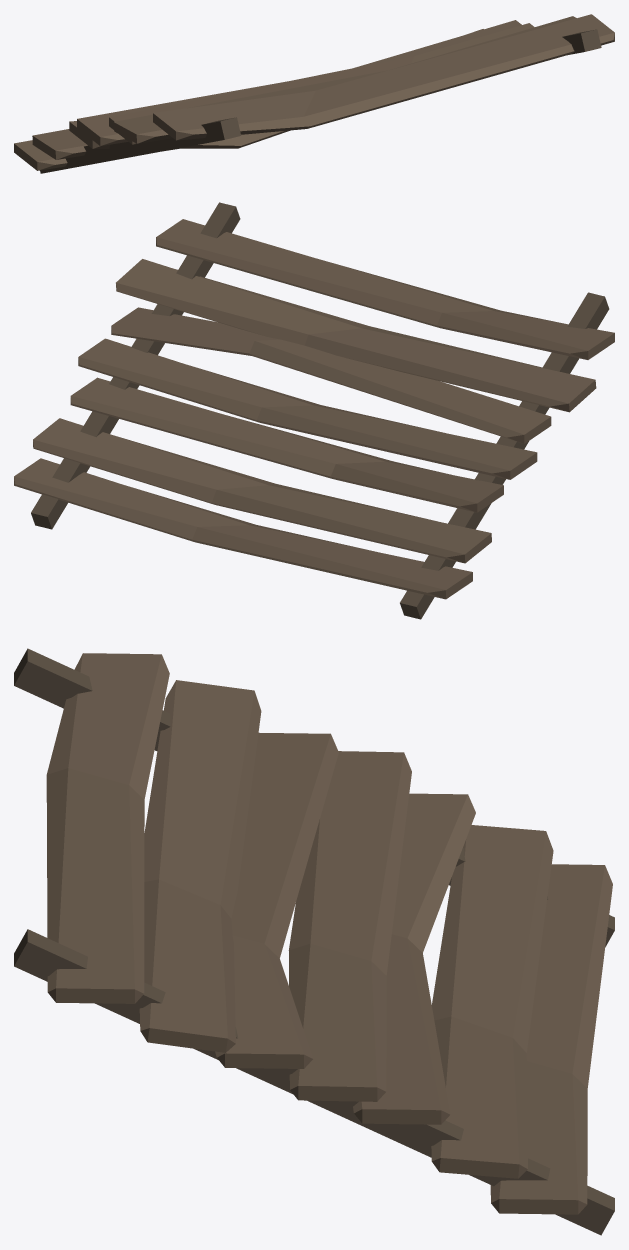
File: SM_Bld_Dock_Stairs_01.glb
The picture shows the model from 3 angles, top to bottom: view 1: azimuth 30°, elevation 25°; view 2: azimuth 150°, elevation 25°; view 3: azimuth 270°, elevation 25°; orthographic projection. The views are drawn at different scales.
Parts seen in each view (by area): view 1: SM_Bld_Dock_Stairs_01; view 2: SM_Bld_Dock_Stairs_01; view 3: SM_Bld_Dock_Stairs_01.
Boxes of the visible parts, x1,y1,x2,y2 form: SM_Bld_Dock_Stairs_01: (14, 14, 614, 173); SM_Bld_Dock_Stairs_01: (14, 202, 614, 619); SM_Bld_Dock_Stairs_01: (14, 648, 614, 1235).
Bounding box in the file's own units: 0.039 × 0.0152 × 0.0281.
